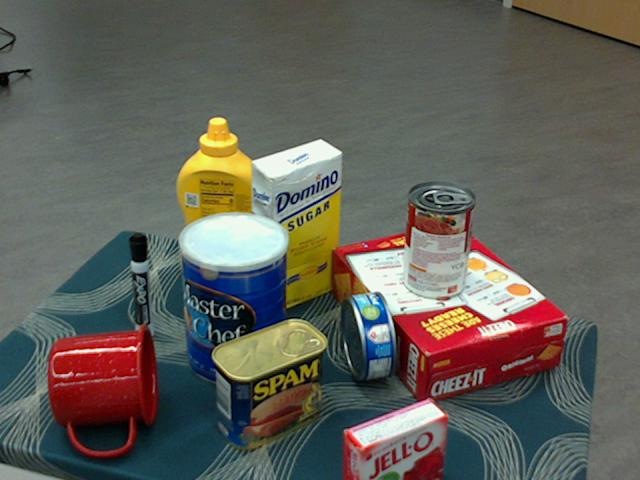cracker_box: (330, 224, 566, 401)
gelatin_box: (340, 399, 445, 479)
large_marker: (129, 232, 151, 339)
master_chef_can: (180, 212, 289, 388)
mug: (48, 323, 158, 456)
mustard_bottle: (176, 118, 265, 286)
potted_meat_can: (212, 319, 327, 449)
sugar_box: (252, 141, 343, 315)
tomato_soup_can: (402, 183, 475, 301)
tuna_fish_can: (341, 290, 397, 380)
